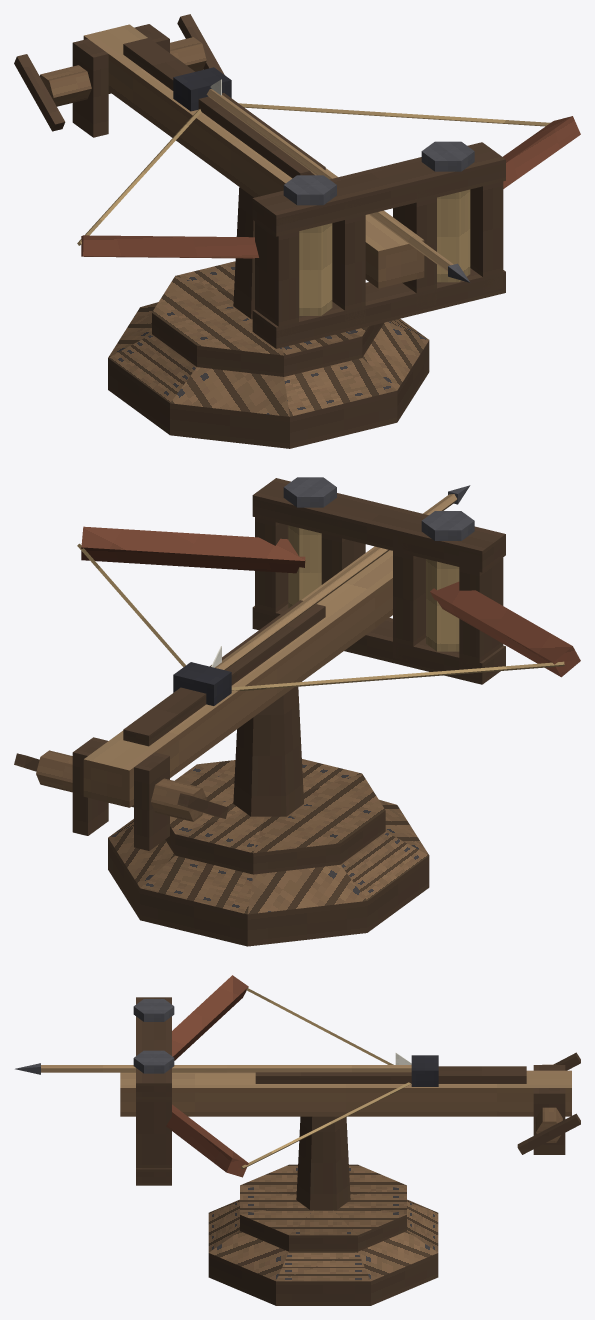
Rendered from ballista.glb.
3 renders of one model, top to bottom at view 1: azimuth 30°, elevation 25°; view 2: azimuth 150°, elevation 25°; view 3: azimuth 270°, elevation 25°, orthographic. The views are drawn at different scales.
Parts seen in each view (by area): view 1: ballista.001, base; view 2: ballista.001, base; view 3: ballista.001, base.
Part boxes in pixels (x1,y1,x2,y2): ballista.001: [14, 14, 580, 348]; base: [108, 261, 429, 448]; ballista.001: [14, 477, 580, 850]; base: [108, 759, 429, 946]; ballista.001: [15, 975, 580, 1209]; base: [208, 1164, 438, 1305].
Size of the model in its own units: 1.95 by 1.1 by 2.51.
Materials: 1 (1 with a texture image).
